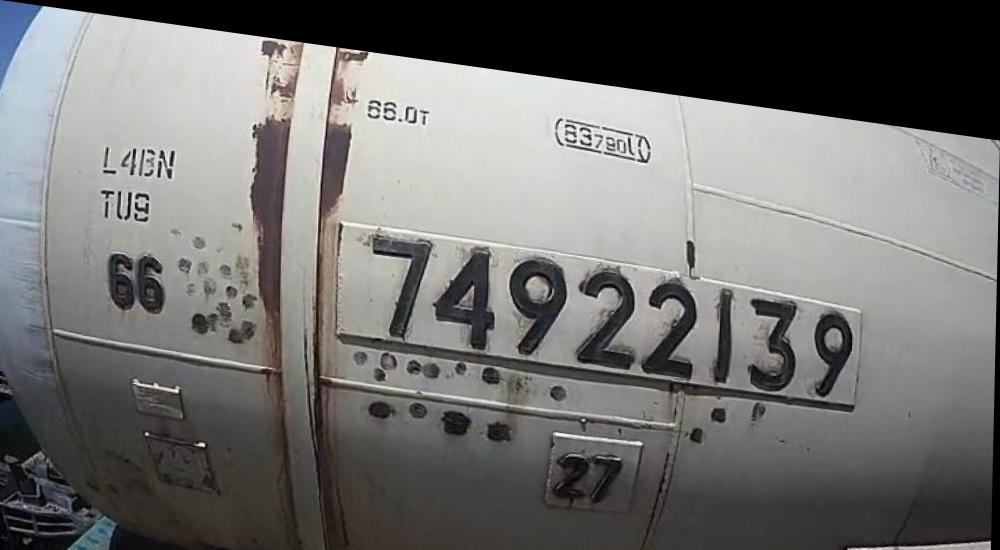Wagon-number: (360, 214, 862, 384)
